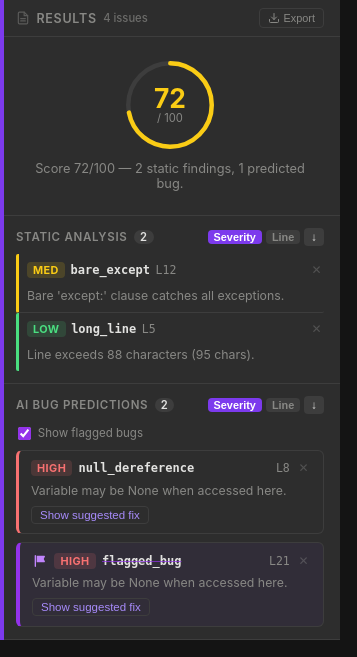
Test case: ResultsPanel — predicted bugs section › hides flagged bugs when the checkbox is unchecked
Expected: the text "flagged_bug" is shown, [102, 554, 182, 568]
Click the checkbox labelled "Show flagged bugs": x=24, y=433 [18, 427, 31, 440]
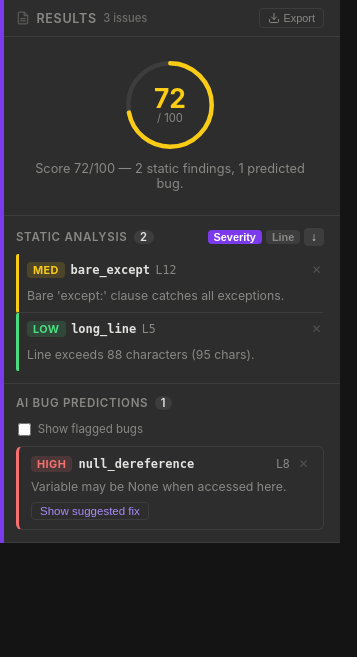
Expected: the text "null_dereference" is shown, [79, 457, 194, 471]
Expected: the checkbox labelled "Show flagged bugs" is not checked, [18, 423, 31, 436]
Expected: the button "flagged_bug" is gone
